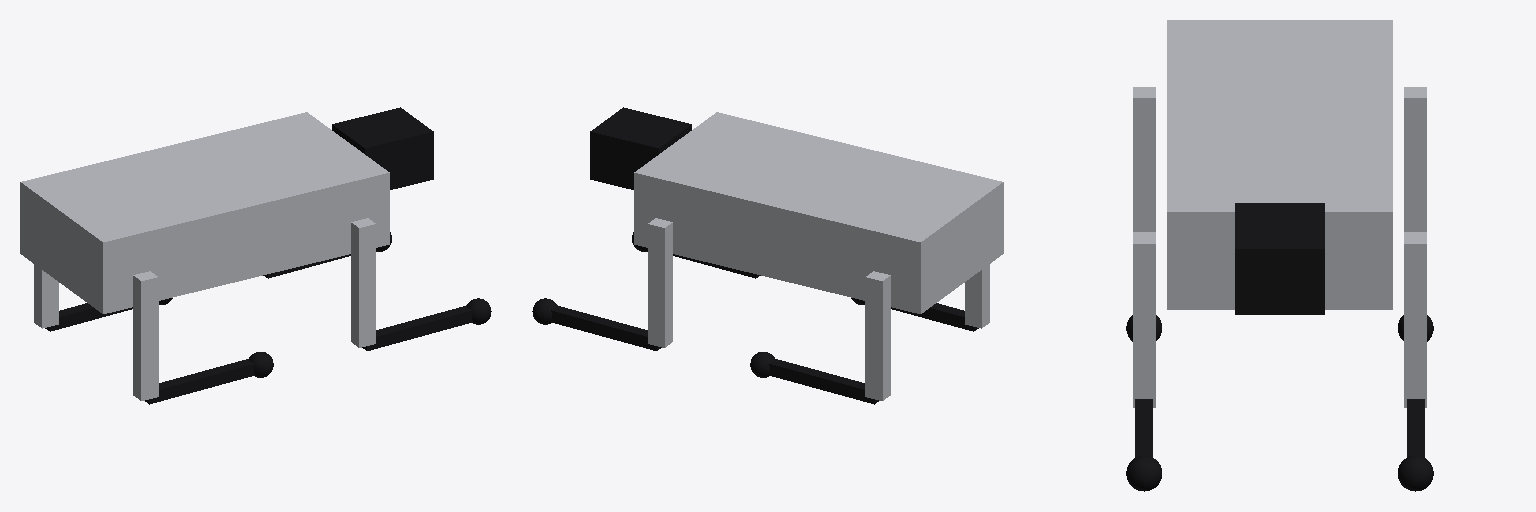
robot.urdf — quad_test:
<?xml version="1.0"?>
<!--
  A primitive quadruped for botrail's gait tests and the offline legged demo:
  a box body, a nodding head, and four 3-DOF legs (hip roll, thigh pitch,
  knee pitch) ending in a ball foot. Knees fold backward, like a Go2's.
  Stance: hip 0, thigh 0.7, calf -1.4 puts each foot straight under its hip
  0.306 m below the body; the foot ball has radius 0.02.
-->
<robot name="quad_test">
  <link name="body">
    <visual>
      <geometry><box size="0.50 0.25 0.12"/></geometry>
      <material name="shell"><color rgba="0.75 0.76 0.78 1"/></material>
    </visual>
  </link>
  <link name="head">
    <visual>
      <origin xyz="0.06 0 0"/>
      <geometry><box size="0.12 0.10 0.08"/></geometry>
      <material name="dark"><color rgba="0.12 0.12 0.13 1"/></material>
    </visual>
  </link>
  <joint name="neck" type="revolute">
    <parent link="body"/><child link="head"/>
    <origin xyz="0.25 0 0.03"/>
    <axis xyz="0 1 0"/>
    <limit lower="-0.8" upper="0.8" effort="10" velocity="3"/>
  </joint>

  <link name="FL_hip">
    <visual>
      <origin rpy="1.5707963 0 0"/>
      <geometry><cylinder radius="0.035" length="0.06"/></geometry>
      <material name="dark"><color rgba="0.12 0.12 0.13 1"/></material>
    </visual>
  </link>
  <joint name="FL_hip_joint" type="revolute">
    <parent link="body"/><child link="FL_hip"/>
    <origin xyz="0.19 0.09 0"/>
    <axis xyz="1 0 0"/>
    <limit lower="-0.8" upper="0.8" effort="20" velocity="10"/>
  </joint>
  <link name="FL_thigh">
    <visual>
      <origin xyz="0 0 -0.1"/>
      <geometry><box size="0.03 0.025 0.20"/></geometry>
      <material name="shell"><color rgba="0.75 0.76 0.78 1"/></material>
    </visual>
  </link>
  <joint name="FL_thigh_joint" type="revolute">
    <parent link="FL_hip"/><child link="FL_thigh"/>
    <origin xyz="0 0.06 0"/>
    <axis xyz="0 1 0"/>
    <limit lower="-1.5" upper="3.0" effort="20" velocity="10"/>
  </joint>
  <link name="FL_calf">
    <visual>
      <origin xyz="0 0 -0.1"/>
      <geometry><box size="0.02 0.02 0.20"/></geometry>
      <material name="dark"><color rgba="0.12 0.12 0.13 1"/></material>
    </visual>
  </link>
  <joint name="FL_calf_joint" type="revolute">
    <parent link="FL_thigh"/><child link="FL_calf"/>
    <origin xyz="0 0 -0.2"/>
    <axis xyz="0 1 0"/>
    <limit lower="-2.6" upper="-0.6" effort="20" velocity="10"/>
  </joint>
  <link name="FL_foot">
    <visual>
      <geometry><sphere radius="0.02"/></geometry>
      <material name="dark"><color rgba="0.12 0.12 0.13 1"/></material>
    </visual>
  </link>
  <joint name="FL_foot_joint" type="fixed">
    <parent link="FL_calf"/><child link="FL_foot"/>
    <origin xyz="0 0 -0.2"/>
  </joint>

  <link name="FR_hip">
    <visual>
      <origin rpy="1.5707963 0 0"/>
      <geometry><cylinder radius="0.035" length="0.06"/></geometry>
      <material name="dark"><color rgba="0.12 0.12 0.13 1"/></material>
    </visual>
  </link>
  <joint name="FR_hip_joint" type="revolute">
    <parent link="body"/><child link="FR_hip"/>
    <origin xyz="0.19 -0.09 0"/>
    <axis xyz="1 0 0"/>
    <limit lower="-0.8" upper="0.8" effort="20" velocity="10"/>
  </joint>
  <link name="FR_thigh">
    <visual>
      <origin xyz="0 0 -0.1"/>
      <geometry><box size="0.03 0.025 0.20"/></geometry>
      <material name="shell"><color rgba="0.75 0.76 0.78 1"/></material>
    </visual>
  </link>
  <joint name="FR_thigh_joint" type="revolute">
    <parent link="FR_hip"/><child link="FR_thigh"/>
    <origin xyz="0 -0.06 0"/>
    <axis xyz="0 1 0"/>
    <limit lower="-1.5" upper="3.0" effort="20" velocity="10"/>
  </joint>
  <link name="FR_calf">
    <visual>
      <origin xyz="0 0 -0.1"/>
      <geometry><box size="0.02 0.02 0.20"/></geometry>
      <material name="dark"><color rgba="0.12 0.12 0.13 1"/></material>
    </visual>
  </link>
  <joint name="FR_calf_joint" type="revolute">
    <parent link="FR_thigh"/><child link="FR_calf"/>
    <origin xyz="0 0 -0.2"/>
    <axis xyz="0 1 0"/>
    <limit lower="-2.6" upper="-0.6" effort="20" velocity="10"/>
  </joint>
  <link name="FR_foot">
    <visual>
      <geometry><sphere radius="0.02"/></geometry>
      <material name="dark"><color rgba="0.12 0.12 0.13 1"/></material>
    </visual>
  </link>
  <joint name="FR_foot_joint" type="fixed">
    <parent link="FR_calf"/><child link="FR_foot"/>
    <origin xyz="0 0 -0.2"/>
  </joint>

  <link name="RL_hip">
    <visual>
      <origin rpy="1.5707963 0 0"/>
      <geometry><cylinder radius="0.035" length="0.06"/></geometry>
      <material name="dark"><color rgba="0.12 0.12 0.13 1"/></material>
    </visual>
  </link>
  <joint name="RL_hip_joint" type="revolute">
    <parent link="body"/><child link="RL_hip"/>
    <origin xyz="-0.19 0.09 0"/>
    <axis xyz="1 0 0"/>
    <limit lower="-0.8" upper="0.8" effort="20" velocity="10"/>
  </joint>
  <link name="RL_thigh">
    <visual>
      <origin xyz="0 0 -0.1"/>
      <geometry><box size="0.03 0.025 0.20"/></geometry>
      <material name="shell"><color rgba="0.75 0.76 0.78 1"/></material>
    </visual>
  </link>
  <joint name="RL_thigh_joint" type="revolute">
    <parent link="RL_hip"/><child link="RL_thigh"/>
    <origin xyz="0 0.06 0"/>
    <axis xyz="0 1 0"/>
    <limit lower="-1.5" upper="3.0" effort="20" velocity="10"/>
  </joint>
  <link name="RL_calf">
    <visual>
      <origin xyz="0 0 -0.1"/>
      <geometry><box size="0.02 0.02 0.20"/></geometry>
      <material name="dark"><color rgba="0.12 0.12 0.13 1"/></material>
    </visual>
  </link>
  <joint name="RL_calf_joint" type="revolute">
    <parent link="RL_thigh"/><child link="RL_calf"/>
    <origin xyz="0 0 -0.2"/>
    <axis xyz="0 1 0"/>
    <limit lower="-2.6" upper="-0.6" effort="20" velocity="10"/>
  </joint>
  <link name="RL_foot">
    <visual>
      <geometry><sphere radius="0.02"/></geometry>
      <material name="dark"><color rgba="0.12 0.12 0.13 1"/></material>
    </visual>
  </link>
  <joint name="RL_foot_joint" type="fixed">
    <parent link="RL_calf"/><child link="RL_foot"/>
    <origin xyz="0 0 -0.2"/>
  </joint>

  <link name="RR_hip">
    <visual>
      <origin rpy="1.5707963 0 0"/>
      <geometry><cylinder radius="0.035" length="0.06"/></geometry>
      <material name="dark"><color rgba="0.12 0.12 0.13 1"/></material>
    </visual>
  </link>
  <joint name="RR_hip_joint" type="revolute">
    <parent link="body"/><child link="RR_hip"/>
    <origin xyz="-0.19 -0.09 0"/>
    <axis xyz="1 0 0"/>
    <limit lower="-0.8" upper="0.8" effort="20" velocity="10"/>
  </joint>
  <link name="RR_thigh">
    <visual>
      <origin xyz="0 0 -0.1"/>
      <geometry><box size="0.03 0.025 0.20"/></geometry>
      <material name="shell"><color rgba="0.75 0.76 0.78 1"/></material>
    </visual>
  </link>
  <joint name="RR_thigh_joint" type="revolute">
    <parent link="RR_hip"/><child link="RR_thigh"/>
    <origin xyz="0 -0.06 0"/>
    <axis xyz="0 1 0"/>
    <limit lower="-1.5" upper="3.0" effort="20" velocity="10"/>
  </joint>
  <link name="RR_calf">
    <visual>
      <origin xyz="0 0 -0.1"/>
      <geometry><box size="0.02 0.02 0.20"/></geometry>
      <material name="dark"><color rgba="0.12 0.12 0.13 1"/></material>
    </visual>
  </link>
  <joint name="RR_calf_joint" type="revolute">
    <parent link="RR_thigh"/><child link="RR_calf"/>
    <origin xyz="0 0 -0.2"/>
    <axis xyz="0 1 0"/>
    <limit lower="-2.6" upper="-0.6" effort="20" velocity="10"/>
  </joint>
  <link name="RR_foot">
    <visual>
      <geometry><sphere radius="0.02"/></geometry>
      <material name="dark"><color rgba="0.12 0.12 0.13 1"/></material>
    </visual>
  </link>
  <joint name="RR_foot_joint" type="fixed">
    <parent link="RR_calf"/><child link="RR_foot"/>
    <origin xyz="0 0 -0.2"/>
  </joint>
</robot>

--- Facts derived from the render (not from the file) ---
3 views of the same robot in one strip: view 1: azimuth 30°, elevation 25°; view 2: azimuth 150°, elevation 25°; view 3: azimuth 270°, elevation 25° (orthographic).
Model quad_test with 18 links and 17 joints (13 revolute, 4 fixed), rooted at body, posed all joints at 0 but 4 set to mid-range because 0 is outside their limits (FL_calf_joint = -1.6, FR_calf_joint = -1.6, RL_calf_joint = -1.6, RR_calf_joint = -1.6).
Links seen in each view (by area): view 1: body, head, RR_thigh, FR_thigh, FR_calf, RR_calf, RL_thigh, RL_calf; view 2: body, head, RL_thigh, FL_thigh, FL_calf, RL_calf, RR_thigh, RR_calf; view 3: body, head, FL_thigh, FR_thigh, RL_thigh, RR_thigh, FL_calf, FR_calf, FL_foot, FR_foot.
Link boxes in pixels (x1=…): body: x1=20, y1=112, x2=389, y2=313; head: x1=332, y1=107, x2=433, y2=189; RR_thigh: x1=133, y1=271, x2=158, y2=400; FR_thigh: x1=351, y1=218, x2=375, y2=347; FR_calf: x1=362, y1=305, x2=472, y2=350; RR_calf: x1=145, y1=359, x2=254, y2=404; RL_thigh: x1=34, y1=264, x2=58, y2=328; RL_calf: x1=45, y1=303, x2=132, y2=331; body: x1=634, y1=112, x2=1003, y2=313; head: x1=590, y1=107, x2=691, y2=189; RL_thigh: x1=865, y1=271, x2=890, y2=400; FL_thigh: x1=648, y1=218, x2=672, y2=347; FL_calf: x1=551, y1=305, x2=661, y2=350; RL_calf: x1=769, y1=359, x2=878, y2=404; RR_thigh: x1=965, y1=264, x2=989, y2=328; RR_calf: x1=891, y1=303, x2=978, y2=331; body: x1=1167, y1=20, x2=1392, y2=309; head: x1=1235, y1=203, x2=1324, y2=314; FL_thigh: x1=1404, y1=232, x2=1426, y2=407; FR_thigh: x1=1133, y1=232, x2=1155, y2=407; RL_thigh: x1=1404, y1=87, x2=1426, y2=231; RR_thigh: x1=1133, y1=87, x2=1155, y2=231; FL_calf: x1=1407, y1=399, x2=1424, y2=457; FR_calf: x1=1135, y1=399, x2=1152, y2=457; FL_foot: x1=1398, y1=455, x2=1433, y2=491; FR_foot: x1=1126, y1=455, x2=1161, y2=491.
Size in the robot's own frame: 0.6599 by 0.34 by 0.2842 metres.
Geometry: primitives only (box / cylinder / sphere), no mesh files.
